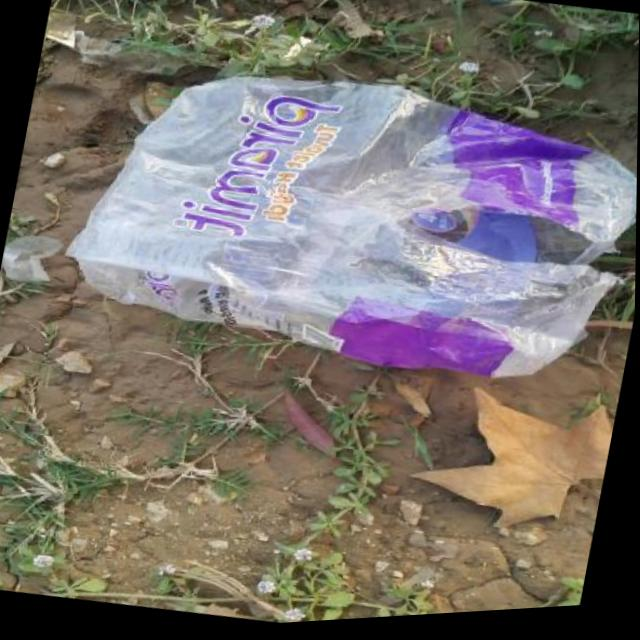plastic: (43, 14, 639, 427)
